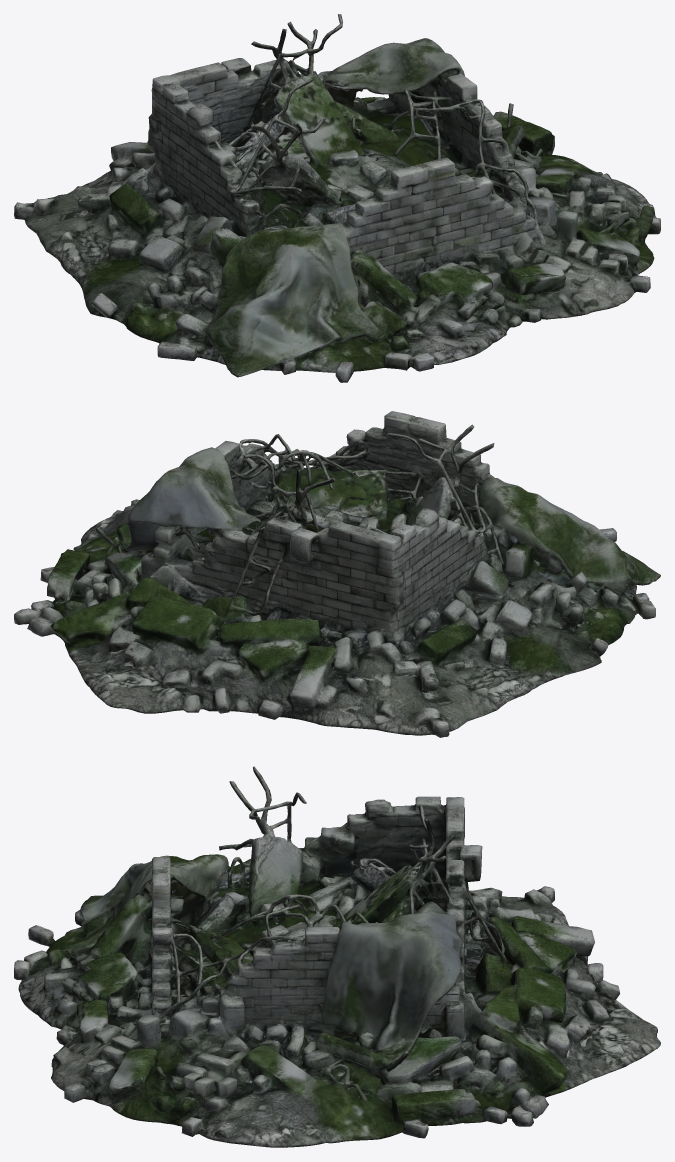
The model's file is prop_rubble.glb.
3 renders of one model, top to bottom at view 1: azimuth 30°, elevation 25°; view 2: azimuth 150°, elevation 25°; view 3: azimuth 270°, elevation 25°, orthographic. The views are drawn at different scales.
Visible parts, largest first — view 1: Mesh_0; view 2: Mesh_0; view 3: Mesh_0.
Boxes of the visible parts, x1,y1,x2,y2 form: Mesh_0: (14,14,660,382); Mesh_0: (14,411,660,737); Mesh_0: (14,766,660,1147).
Size of the model in its own units: 9.17 by 3 by 9.26.
Materials: 1 (1 with a texture image).
